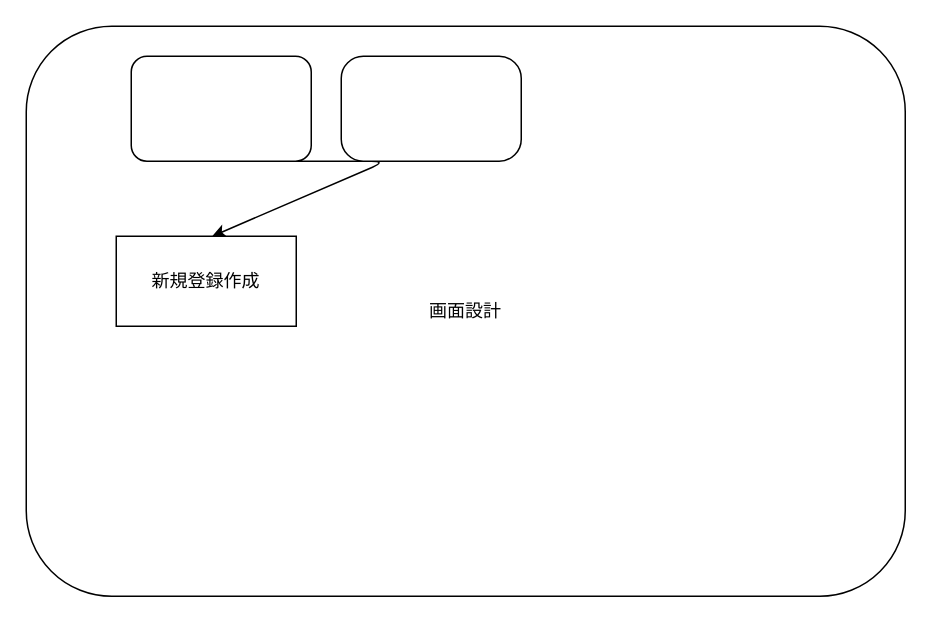
The diagram is 932 pixels wide and 623 high, and some of its shapes have lost their labels. Each missing label, with the box of its shape:
データベース接続: (130, 55, 311, 161)
マイグレーション: (340, 55, 521, 161)
